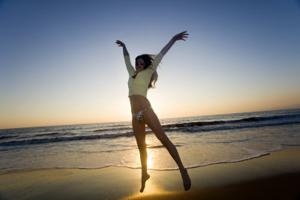person without safety: (123, 48, 186, 183)
